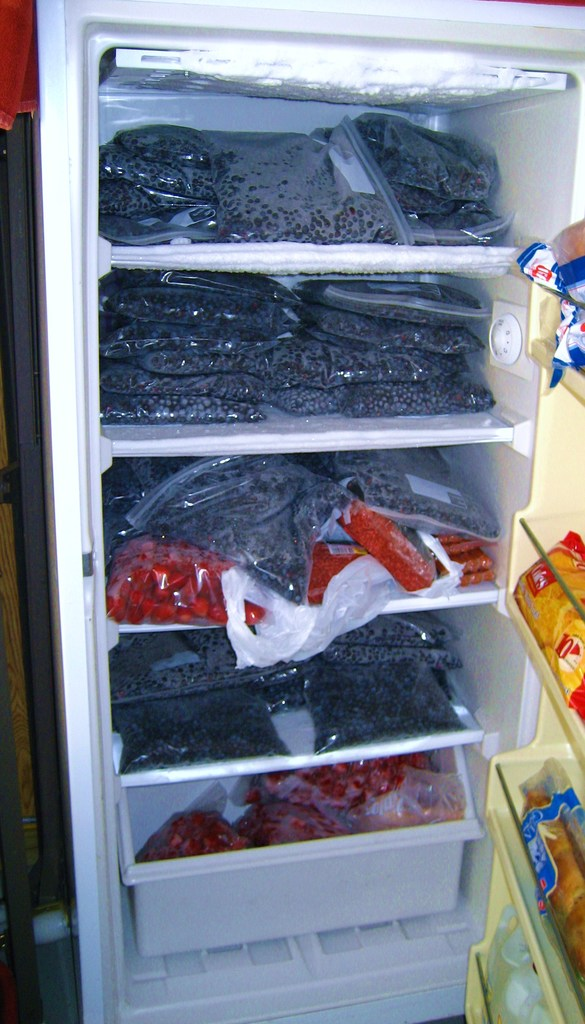refrigerator door: (552, 232, 585, 1008)
